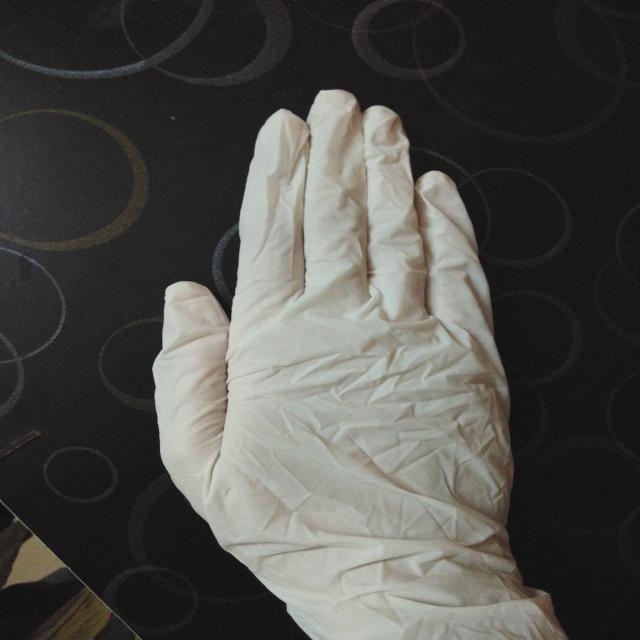glove: (147, 83, 569, 636)
